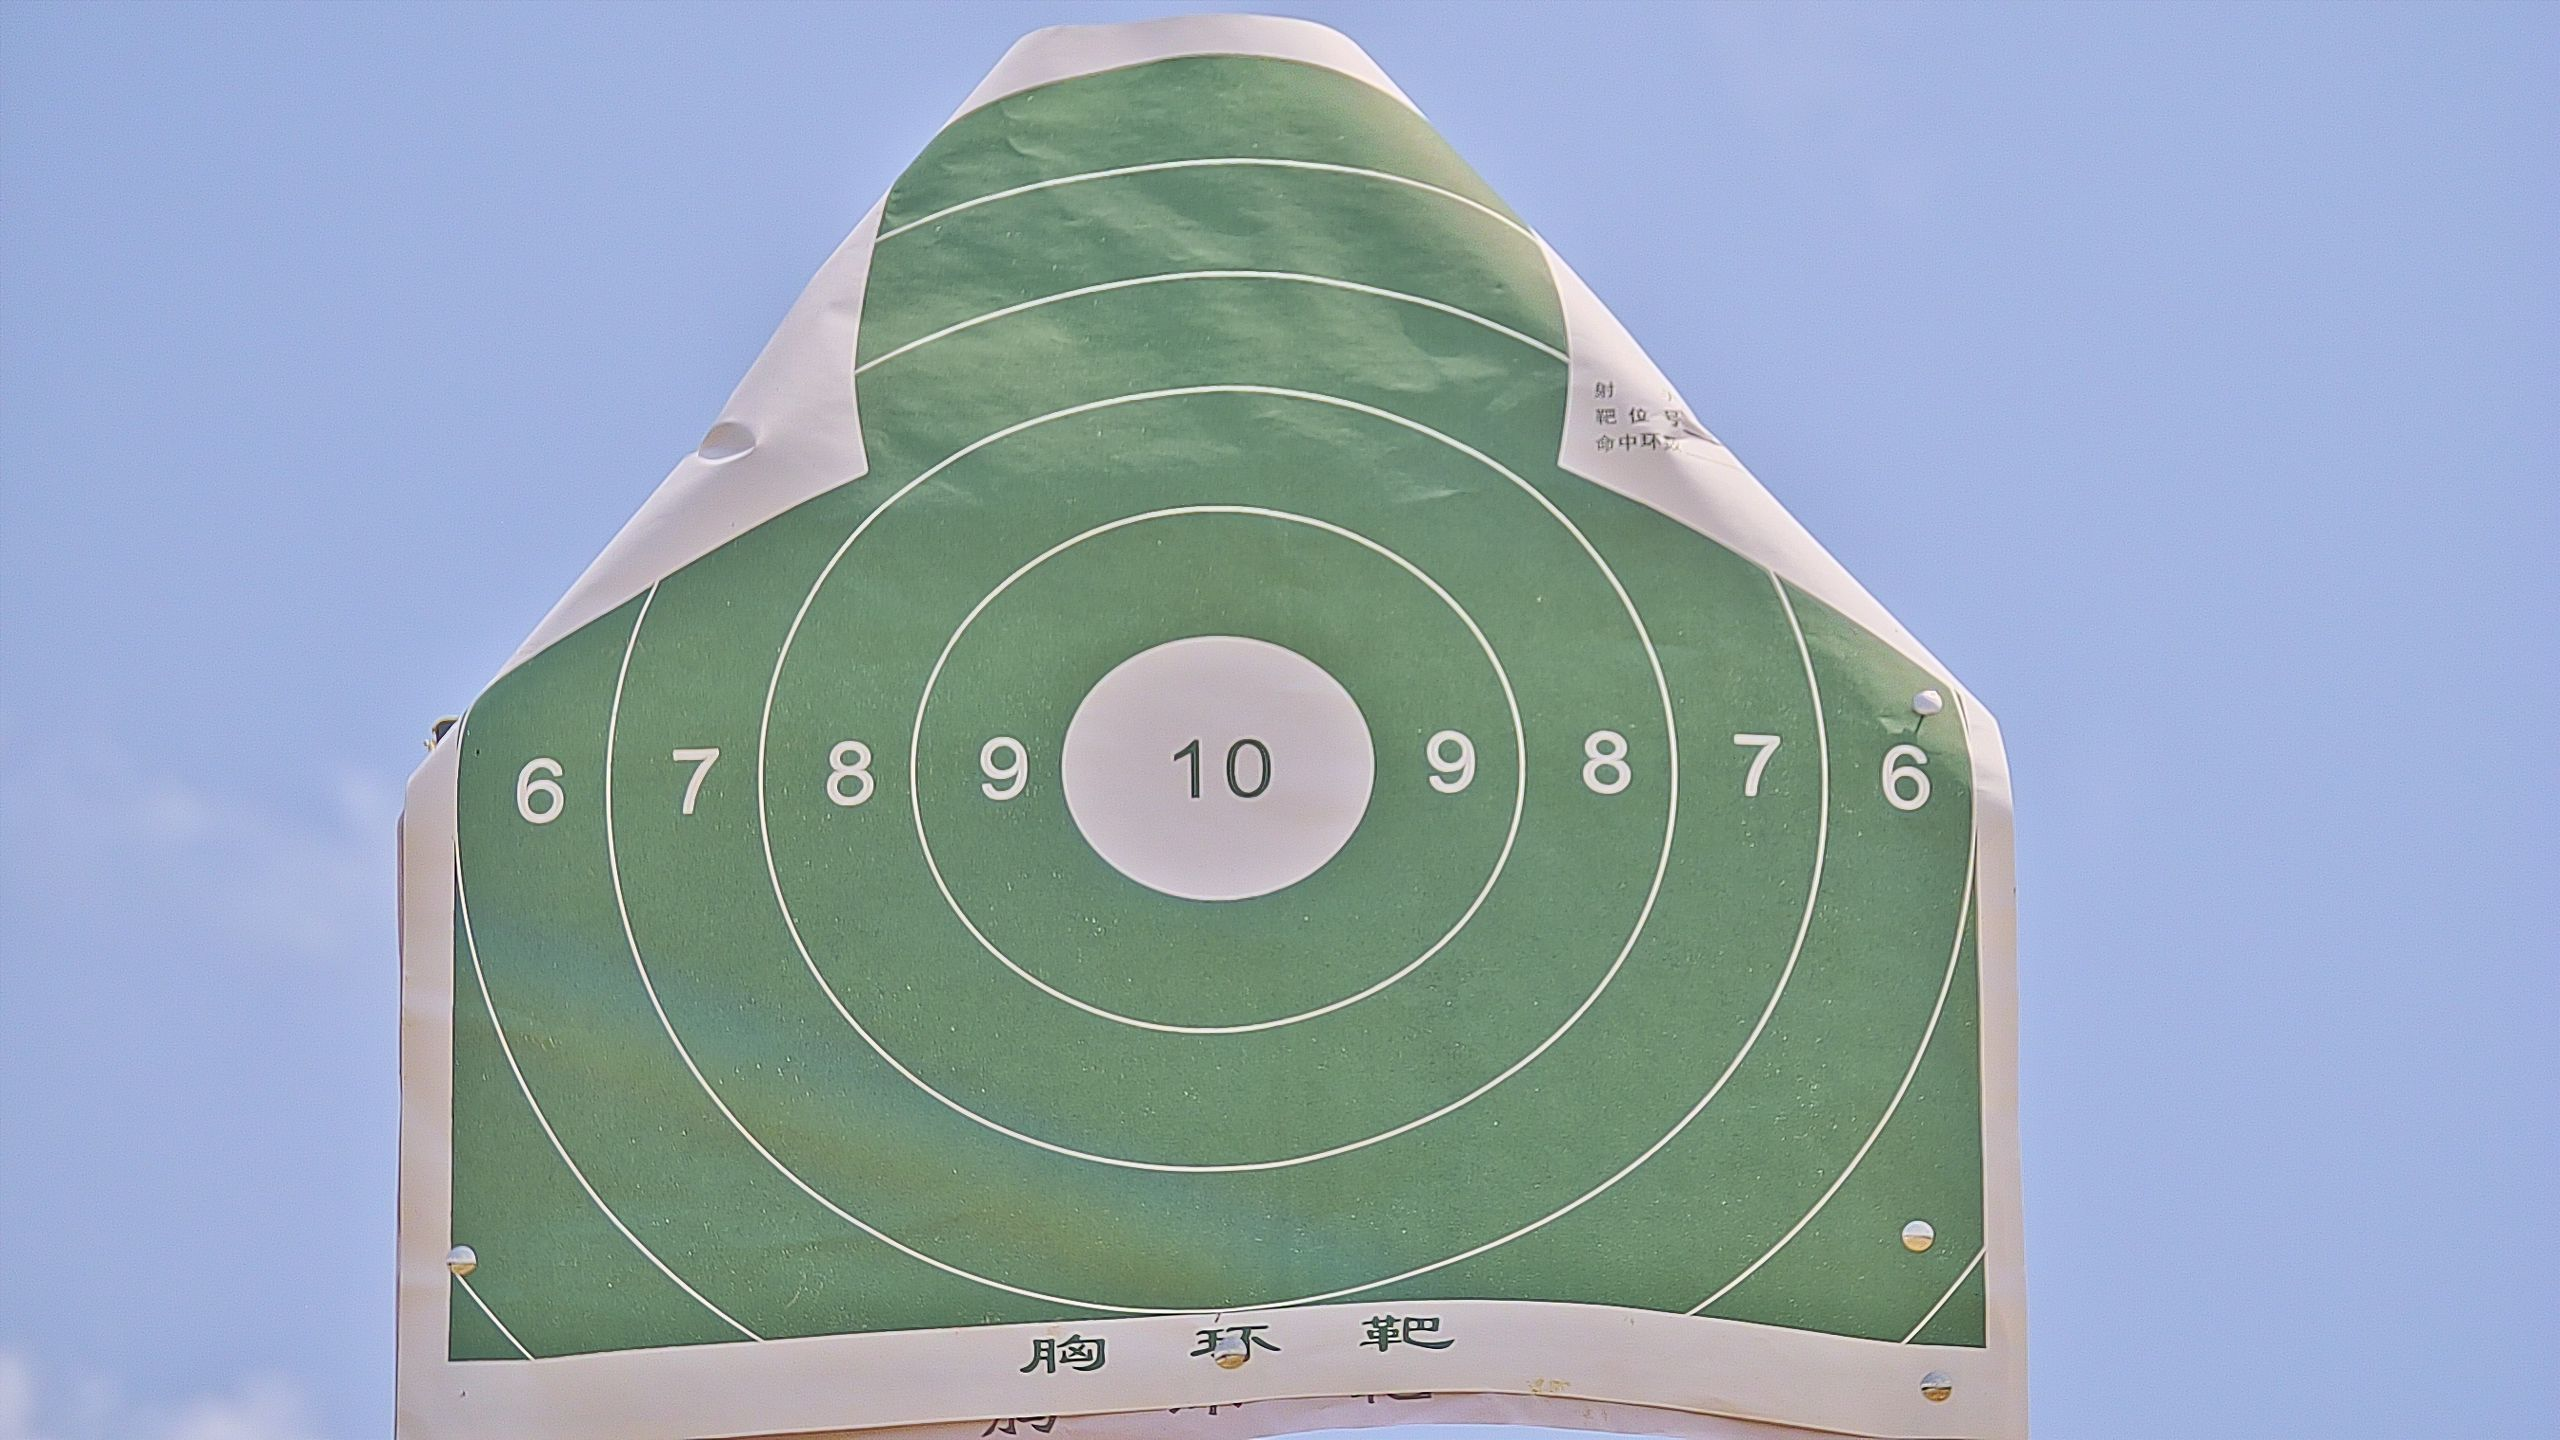target: (452, 63, 1990, 1363)
ten: (1058, 631, 1384, 905)
